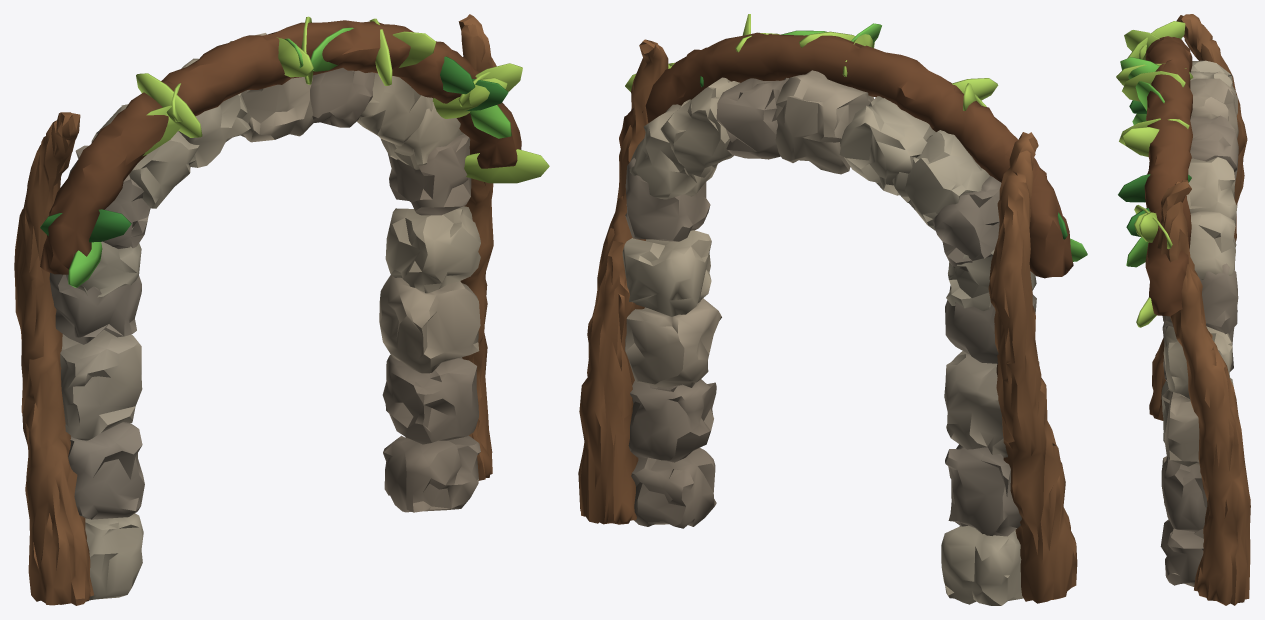
Rendered from glade_portal_arch.glb.
3 views of the same model, side by side, from view 1: azimuth 30°, elevation 25°; view 2: azimuth 150°, elevation 25°; view 3: azimuth 270°, elevation 25° (orthographic). The views are drawn at different scales.
Parts seen in each view (by area): view 1: glade_portal_arch; view 2: glade_portal_arch; view 3: glade_portal_arch.
Part boxes in pixels (x1,y1,x2,y2): glade_portal_arch: (14,14,549,605); glade_portal_arch: (578,14,1087,605); glade_portal_arch: (1116,14,1250,605).
Size of the model in its own units: 9.91 by 10.28 by 2.76.
